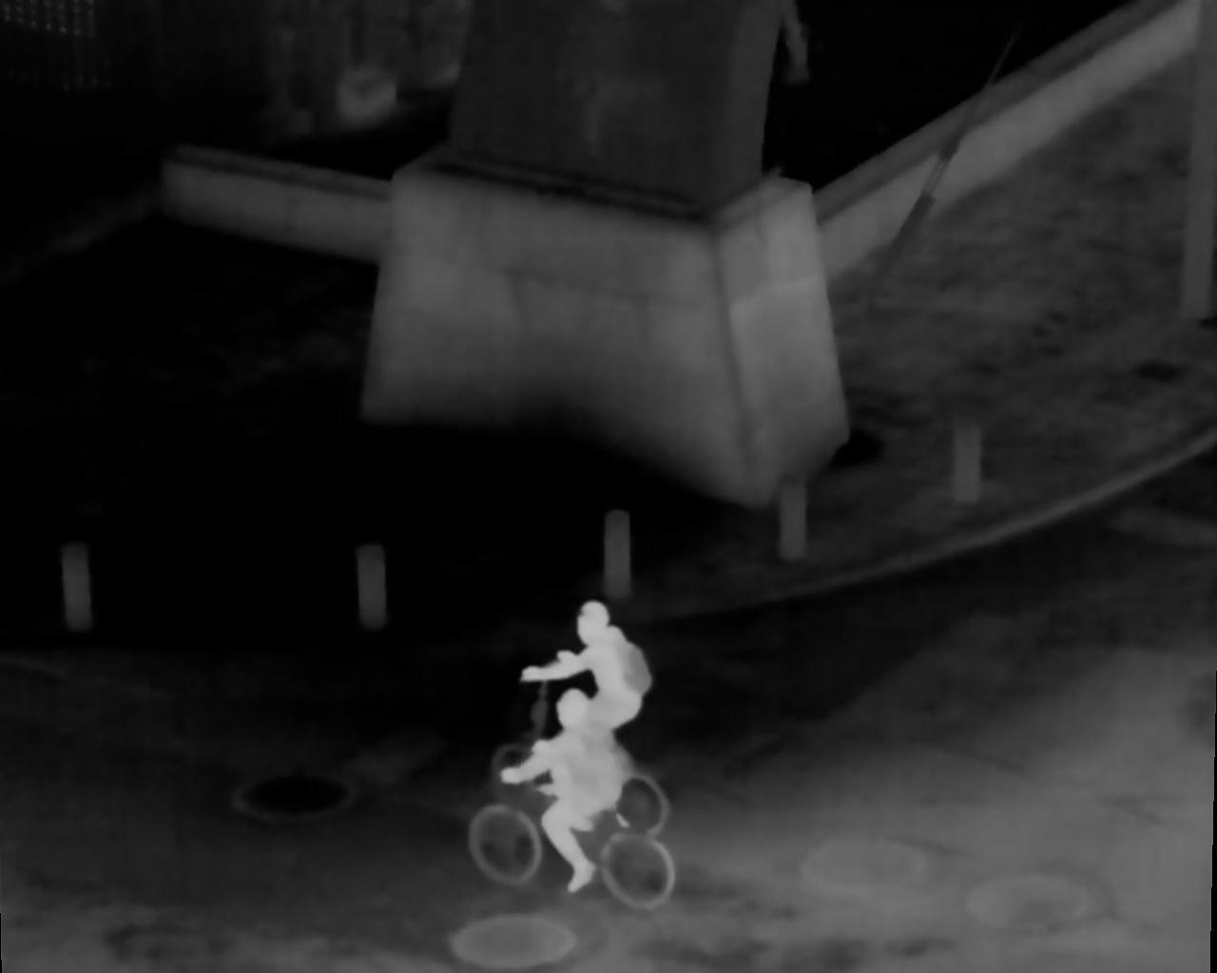person: (498, 691, 624, 892), (524, 601, 654, 770)
